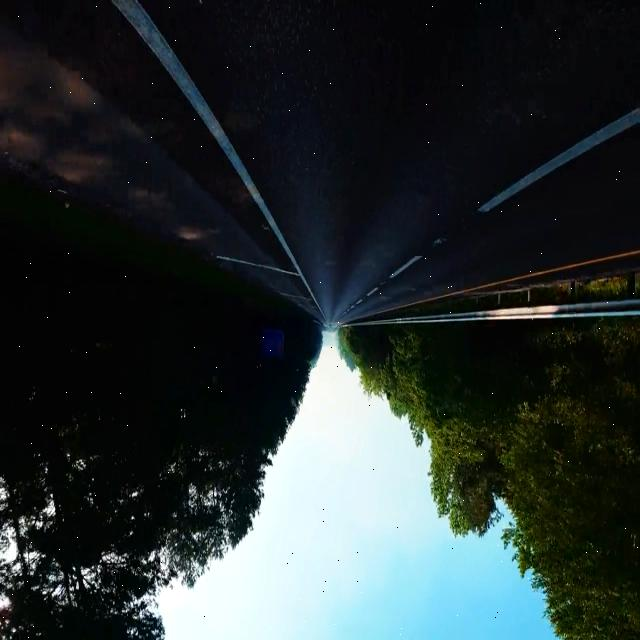road: (145, 3, 640, 324), (0, 4, 296, 271)
